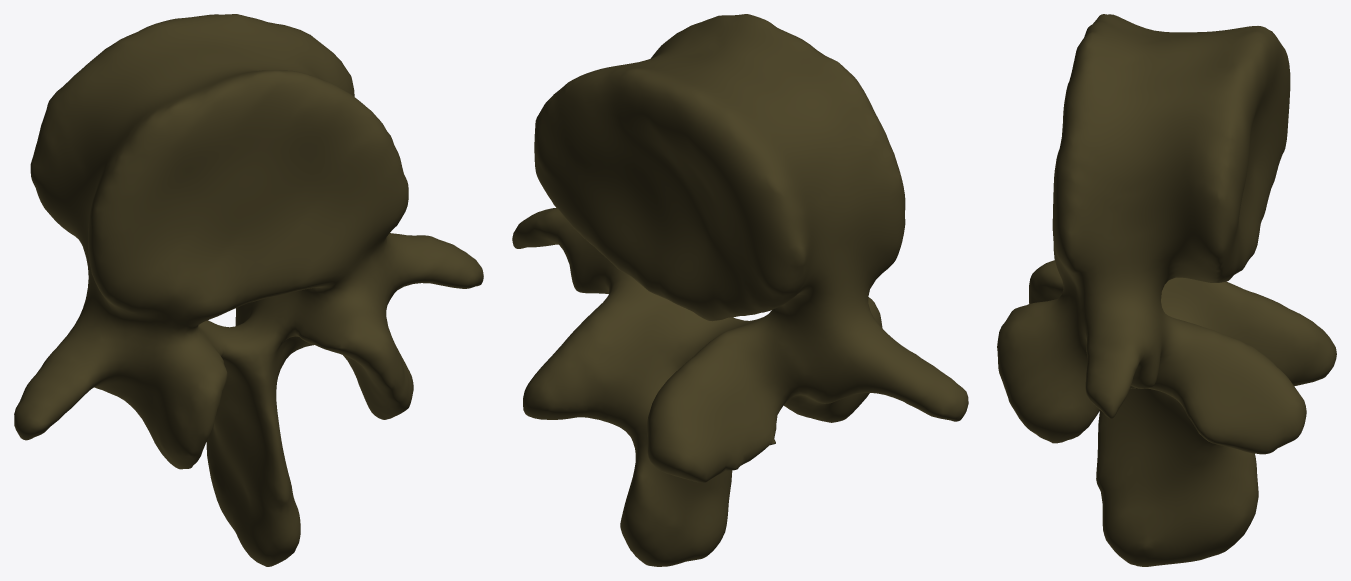
The model's file is segmentations_vertebrae_L4.obj.
3 views of the same model, side by side, from view 1: azimuth 30°, elevation 25°; view 2: azimuth 150°, elevation 25°; view 3: azimuth 270°, elevation 25° (orthographic). The views are drawn at different scales.
Parts seen in each view (by area): view 1: grp1; view 2: grp1; view 3: grp1.
Boxes of the visible parts, bbox=[...] form: grp1: bbox=[14, 14, 483, 566]; grp1: bbox=[512, 14, 968, 566]; grp1: bbox=[997, 14, 1336, 566].
Size of the model in its own units: 53.3 by 58.08 by 34.8.
